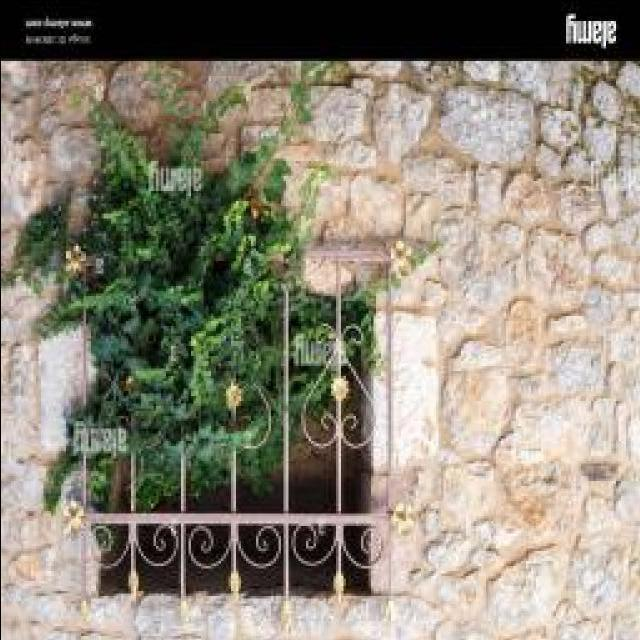corrosion: (2, 59, 638, 637)
crack: (439, 84, 540, 167), (372, 82, 434, 161), (339, 173, 407, 240), (310, 86, 374, 151), (239, 81, 299, 136), (130, 597, 202, 640), (399, 188, 450, 244), (590, 79, 627, 125)
dampness: (270, 63, 636, 290), (1, 62, 138, 621), (3, 63, 111, 245)
vegetation: (25, 67, 379, 549), (76, 147, 236, 325), (221, 65, 338, 214), (92, 62, 221, 167), (289, 221, 444, 275), (569, 72, 637, 181), (50, 274, 167, 332), (410, 111, 495, 173), (301, 243, 368, 297)
